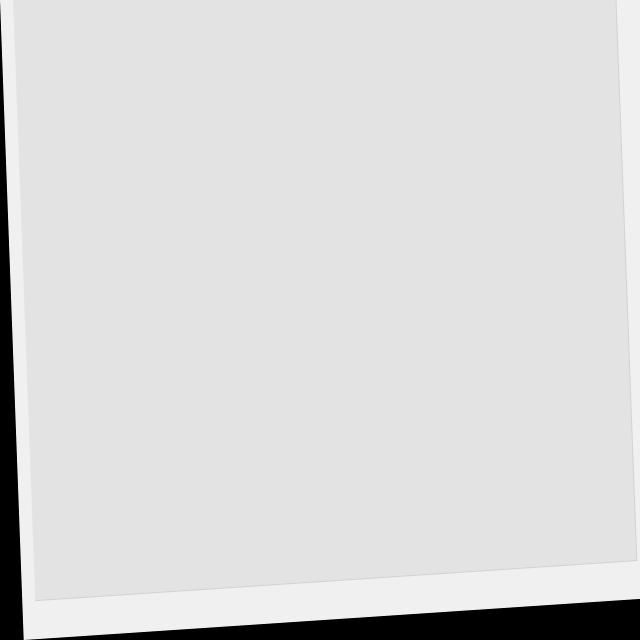qr_code: (13, 0, 631, 600)
